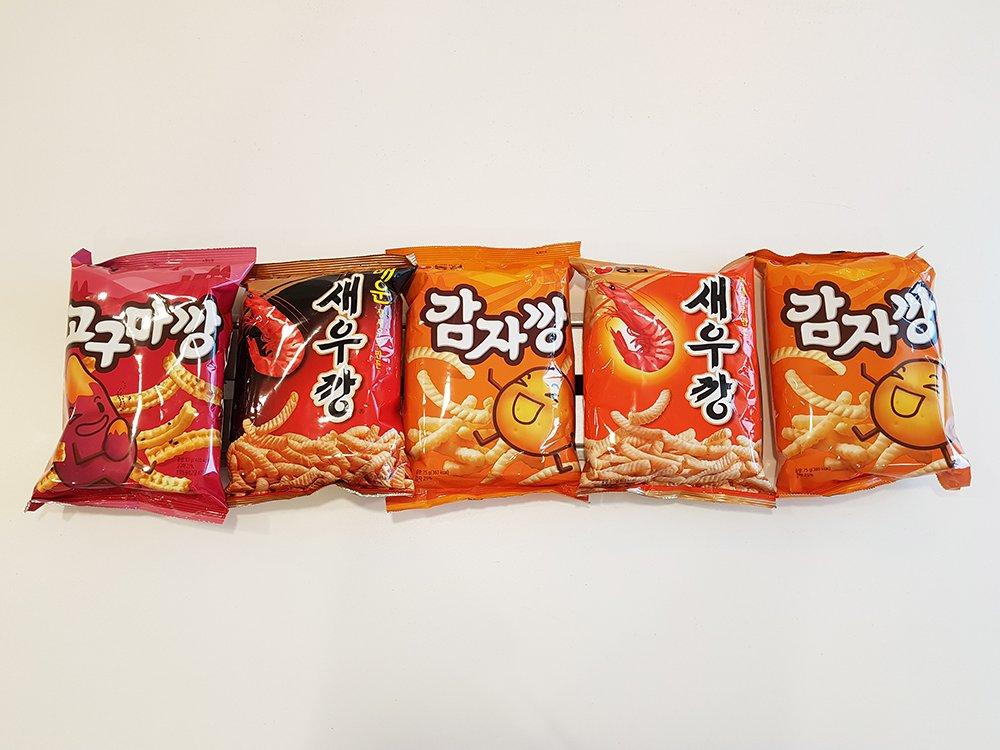snack: (24, 244, 257, 523), (748, 244, 970, 498), (384, 240, 588, 510), (221, 250, 418, 509), (568, 257, 777, 499)
